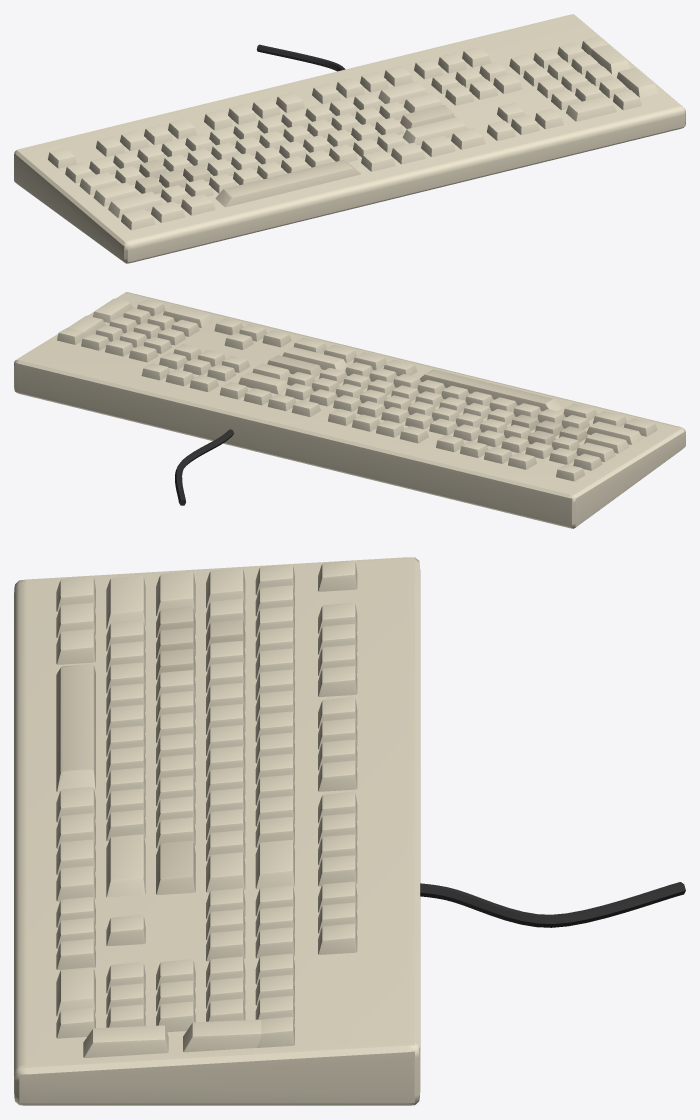
File: electronics_keyboard.fbx
The picture shows the model from 3 angles, top to bottom: view 1: azimuth 30°, elevation 25°; view 2: azimuth 150°, elevation 25°; view 3: azimuth 270°, elevation 25°; orthographic projection. The views are drawn at different scales.
Parts seen in each view (by area): view 1: electronics_keyboard; view 2: electronics_keyboard; view 3: electronics_keyboard.
Boxes of the visible parts, x1,y1,x2,y2 form: electronics_keyboard: [14, 14, 685, 263]; electronics_keyboard: [14, 292, 685, 528]; electronics_keyboard: [14, 557, 685, 1105].
Size of the model in its own units: 0.445 by 0.0363 by 0.2564.
